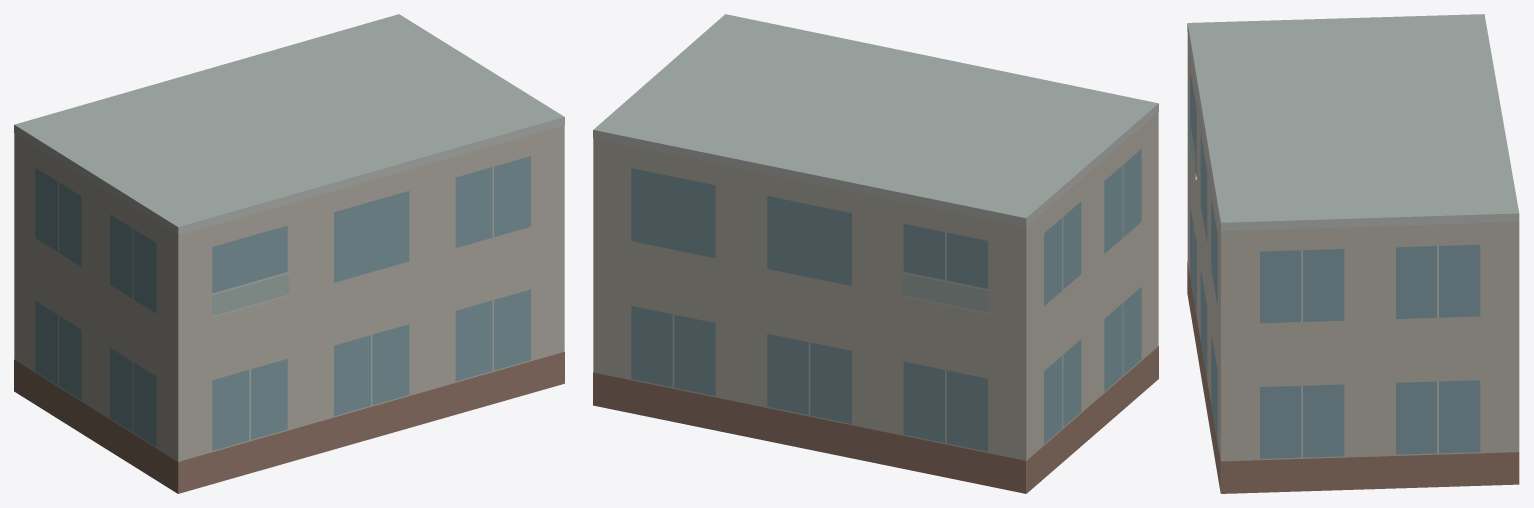
Rendered from survey-upis-32742551.glb.
The picture shows the model from 3 angles, left to right: view 1: azimuth 30°, elevation 25°; view 2: azimuth 150°, elevation 25°; view 3: azimuth 270°, elevation 25°; orthographic projection. The views are drawn at different scales.
Parts seen in each view (by area): view 1: survey-upis-32742551.tmp; view 2: survey-upis-32742551.tmp; view 3: survey-upis-32742551.tmp.
Boxes of the visible parts, left/top/right/bottom form: survey-upis-32742551.tmp: left=14, top=14, right=564, bottom=493; survey-upis-32742551.tmp: left=593, top=14, right=1158, bottom=493; survey-upis-32742551.tmp: left=1187, top=14, right=1519, bottom=493.
Bounding box in the file's own units: 12.98 × 7.85 × 8.72.
